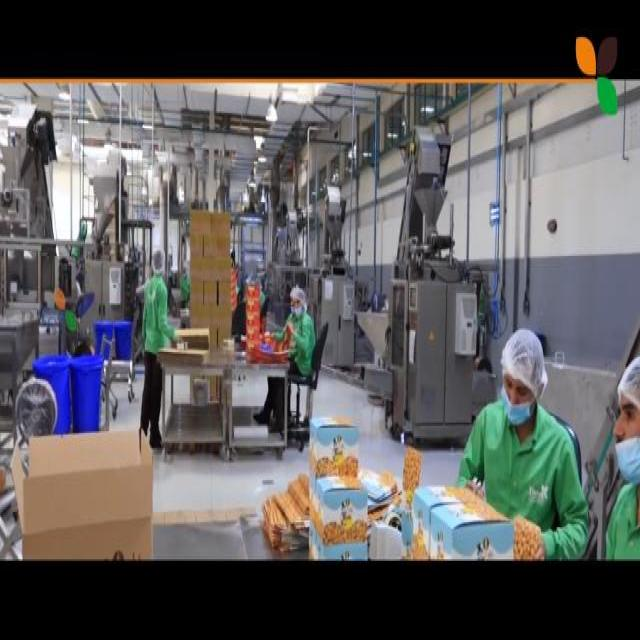hairnet: (502, 331, 548, 391), (620, 357, 640, 403), (150, 252, 164, 274), (290, 286, 305, 304)
